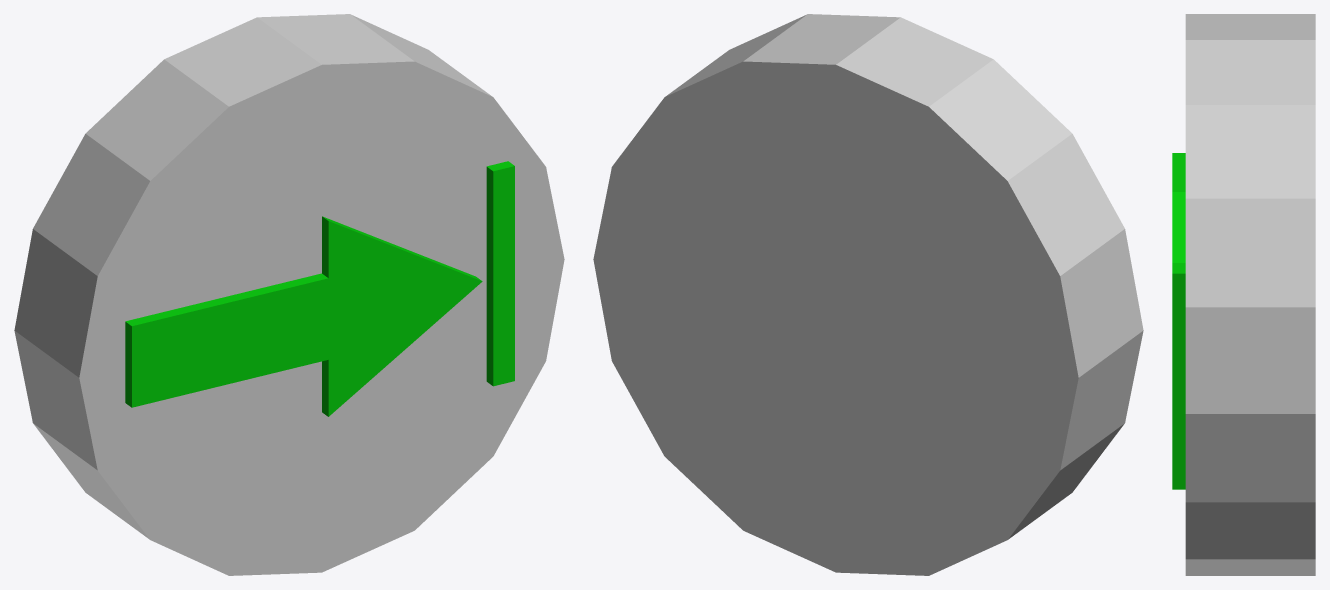
3 renders of one model, left to right at view 1: azimuth 30°, elevation 25°; view 2: azimuth 150°, elevation 25°; view 3: azimuth 270°, elevation 25°, orthographic.
Visible parts, largest first — view 1: Cube; view 2: Cube; view 3: Cube.
Boxes of the visible parts, left/top/right/bottom form: Cube: left=14, top=14, right=564, bottom=575; Cube: left=593, top=14, right=1143, bottom=575; Cube: left=1172, top=14, right=1315, bottom=575.
Bounding box in the file's own units: 2 × 2 × 0.5108.
